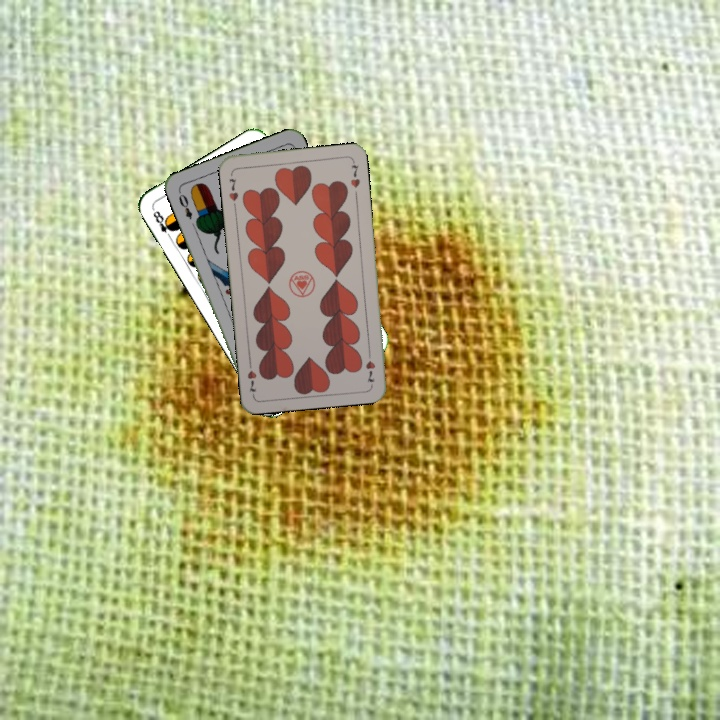E8: (148, 205, 177, 242)
EO: (174, 187, 195, 222)
H7: (362, 346, 378, 387), (225, 174, 241, 210)
